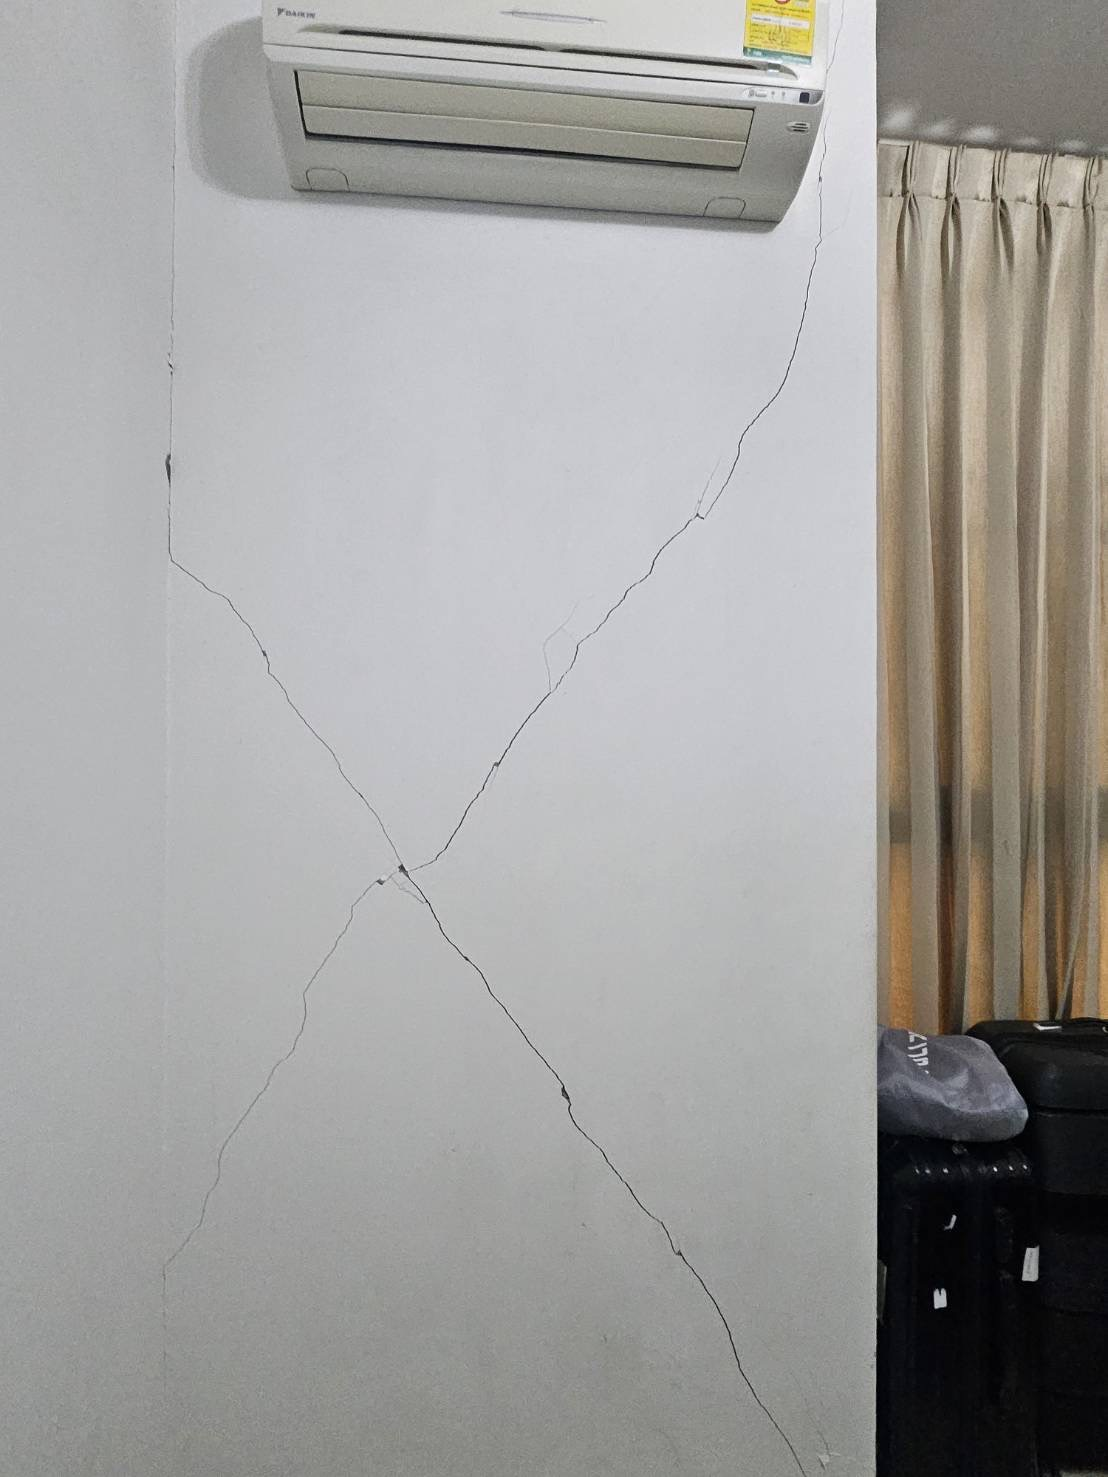High: (132, 203, 861, 1475)
